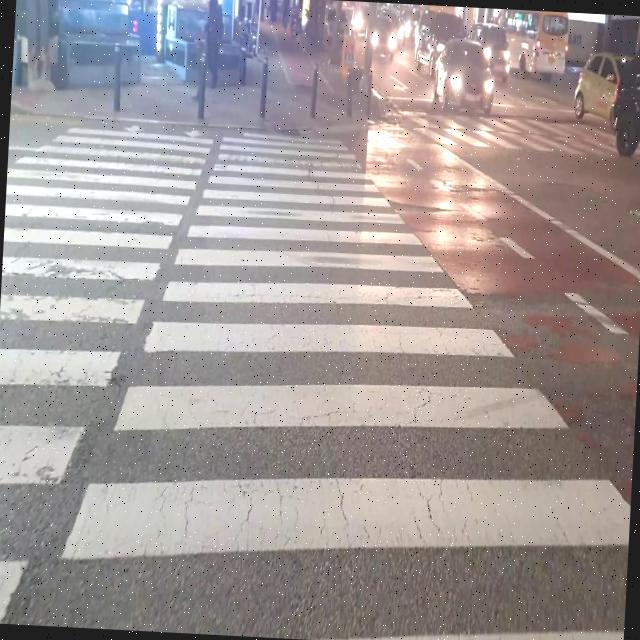crosswalk: (0, 116, 629, 640), (398, 112, 640, 155)
